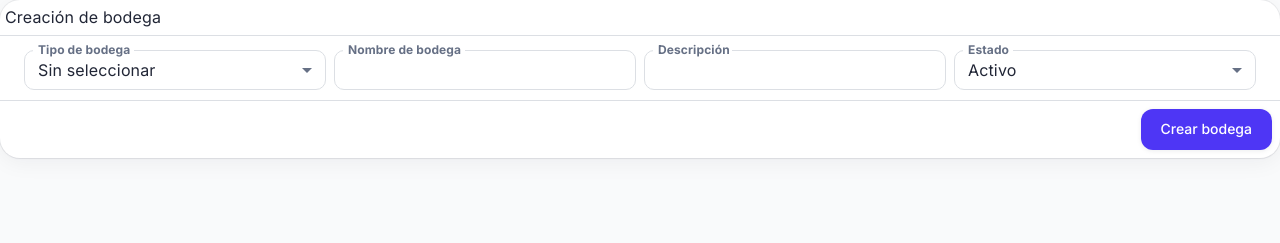
FormularioCrearBodega › crea la bodega con el usuario de la sesión y avisa por WebSocket
The image size is (1280, 243).
Click the dropdown labelled "Sin seleccionar" at (97, 70), box [38, 60, 156, 80]
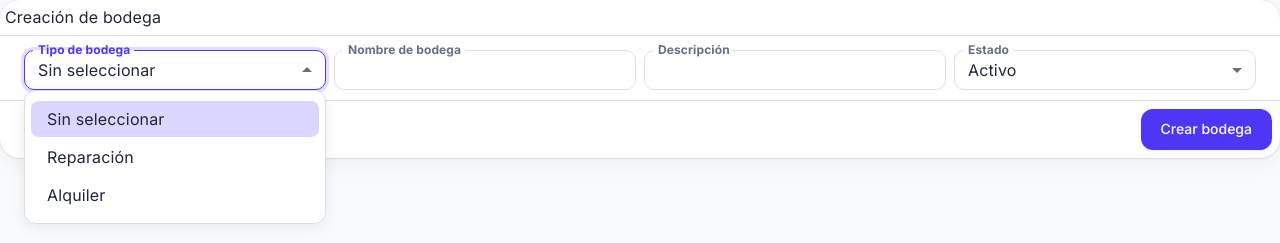
Click the option "Alquiler" at (76, 195), box [47, 185, 106, 205]
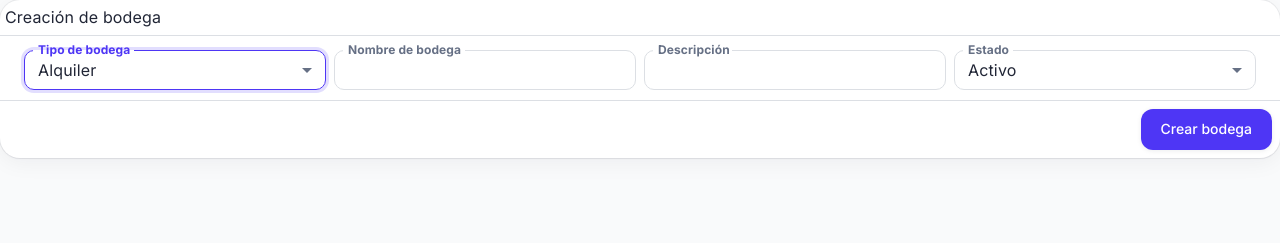
Expected: the list is gone
Type "Bodega Norte" into the field labelled "Nombre de bodega" at (485, 70), box [334, 50, 636, 90]
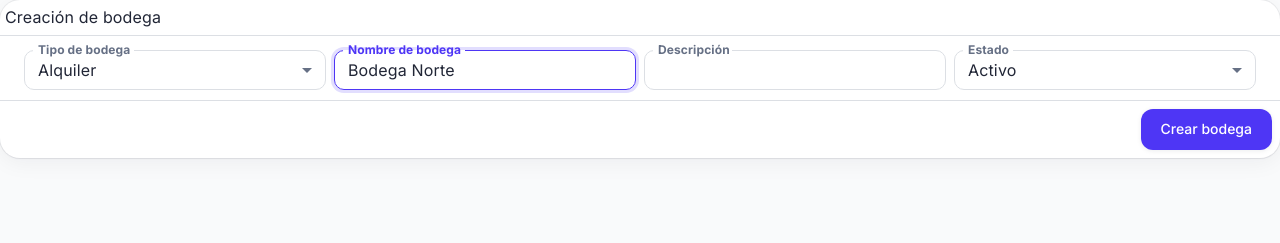
Type "Principal" into the field labelled "Descripción" at (795, 70), box [644, 50, 946, 90]
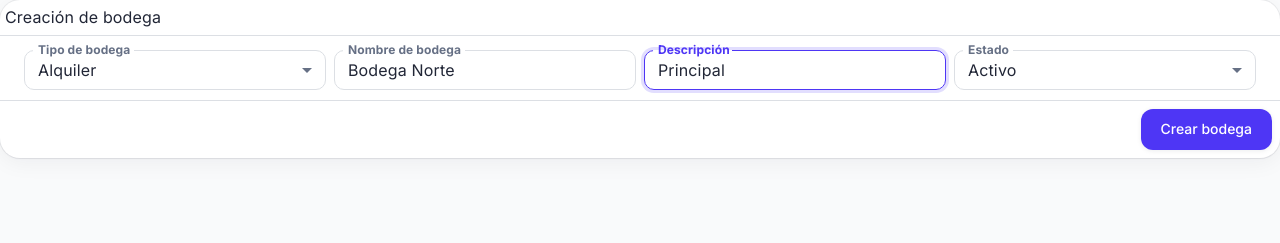
Click the button "Crear bodega" at (1206, 129), box [1140, 109, 1272, 150]
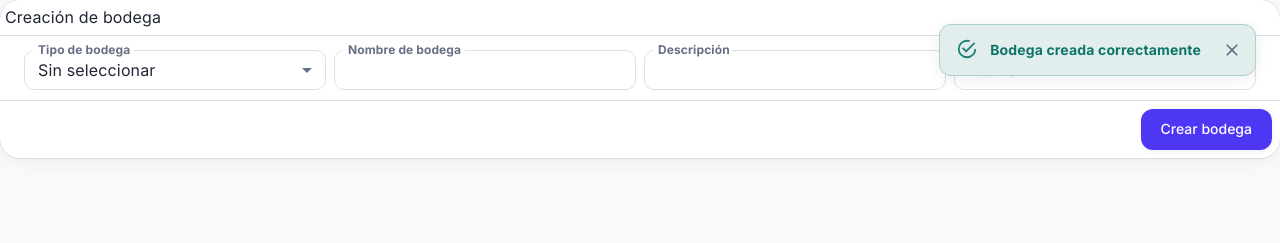
Expected: the text "Bodega creada correctamente" is shown, [990, 41, 1201, 58]
Expected: the field labelled "Nombre de bodega" is empty, [334, 50, 636, 90]
